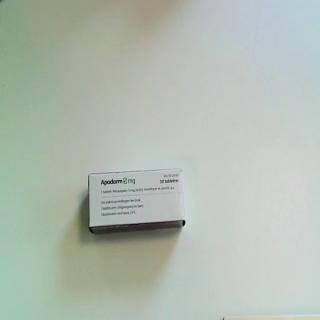apodonorm5mg: (87, 167, 187, 236)
